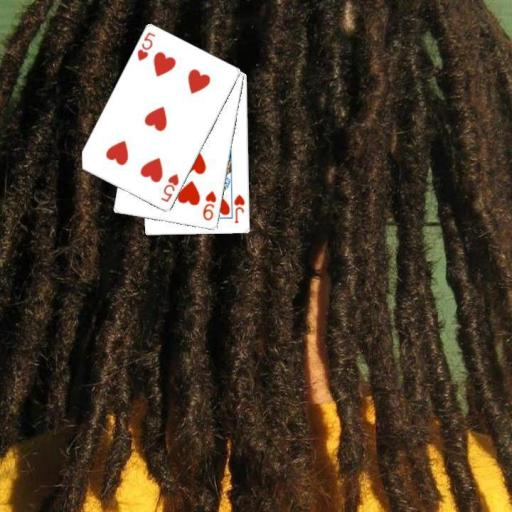card-corner: (134, 29, 156, 63), (158, 171, 180, 204), (200, 188, 218, 222), (231, 191, 246, 225)
